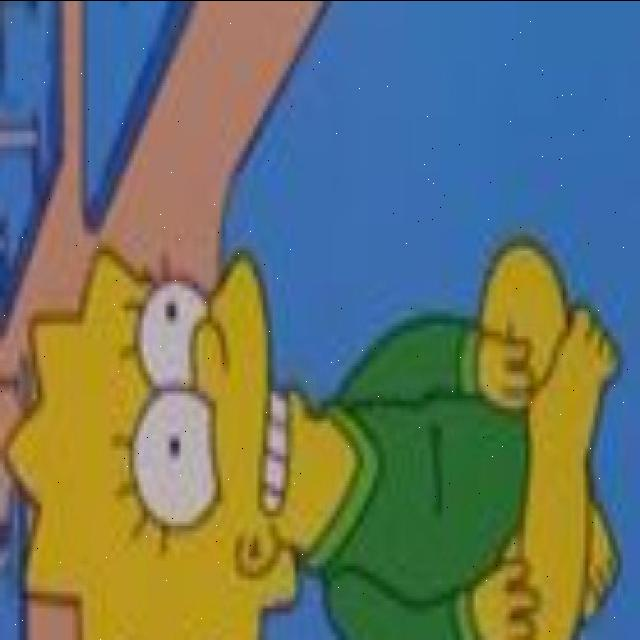Lisa Simpson: (4, 250, 351, 640)
